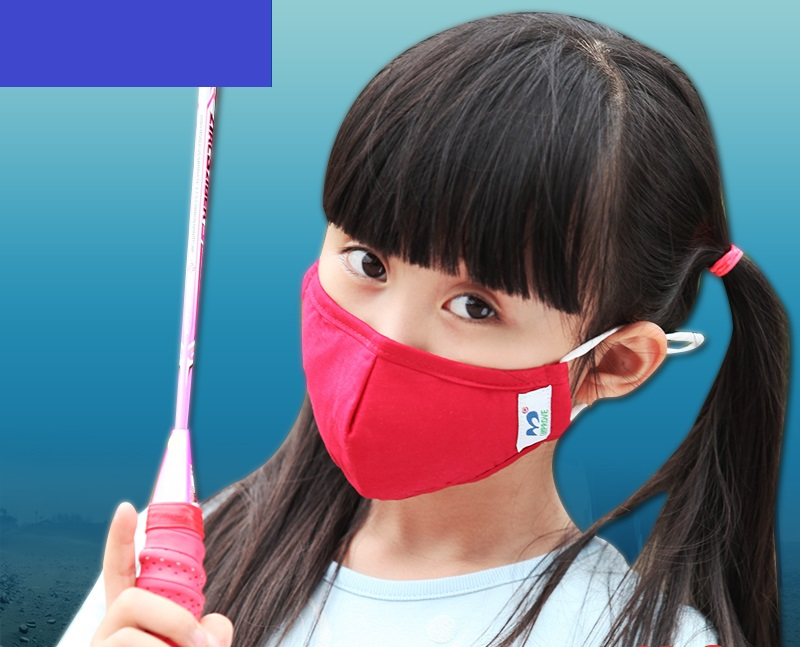face_mask: (302, 163, 591, 483)
